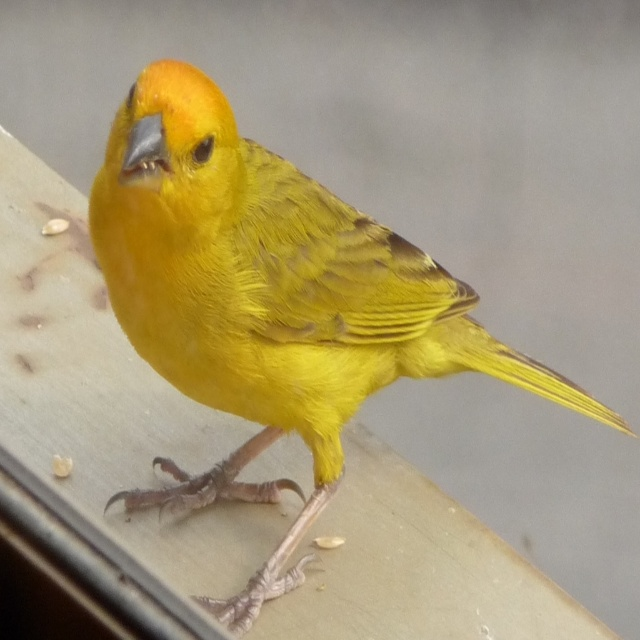Canary: (87, 56, 639, 639)
